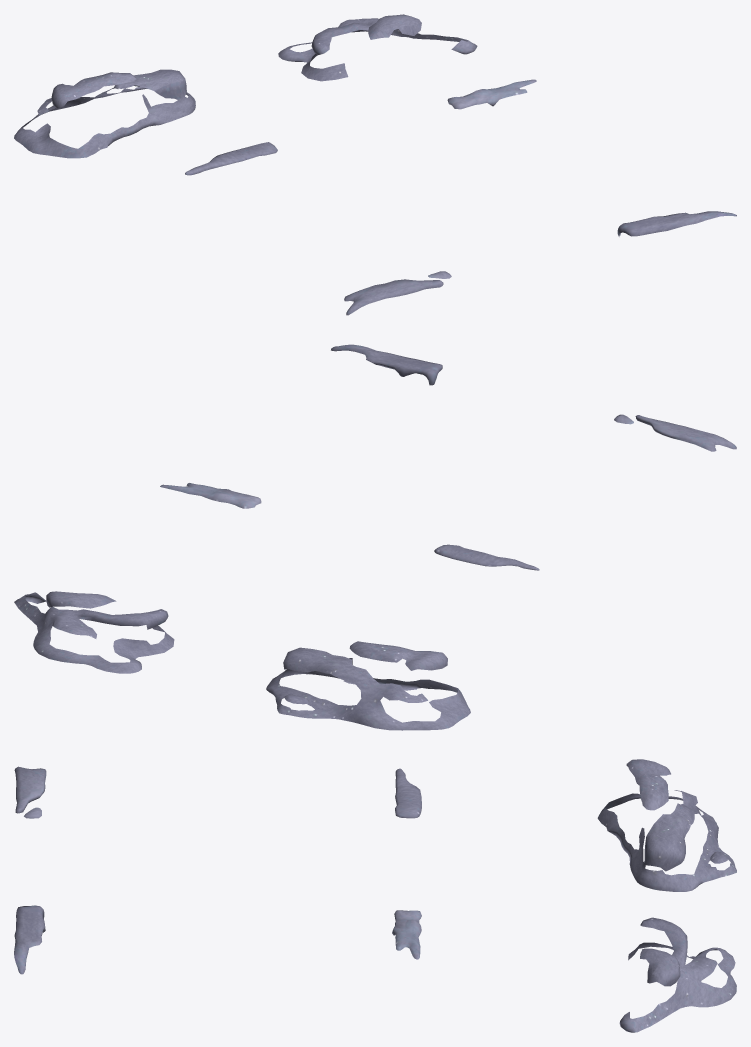
File: pref_sm_beach_winter_snow11_lv2.fbx
3 views of the same model, one above another, from view 1: azimuth 30°, elevation 25°; view 2: azimuth 150°, elevation 25°; view 3: azimuth 270°, elevation 25° (orthographic). The views are drawn at different scales.
Visible parts, largest first — view 1: pref_sm_beach_winter_snow11_lv2; view 2: pref_sm_beach_winter_snow11_lv2; view 3: pref_sm_beach_winter_snow11_lv2.
Boxes of the visible parts, <box> form: pref_sm_beach_winter_snow11_lv2: <box>14,14,736,315</box>; pref_sm_beach_winter_snow11_lv2: <box>14,344,736,730</box>; pref_sm_beach_winter_snow11_lv2: <box>14,759,736,1032</box>.
Size of the model in its own units: 16.71 by 2.04 by 21.8.
